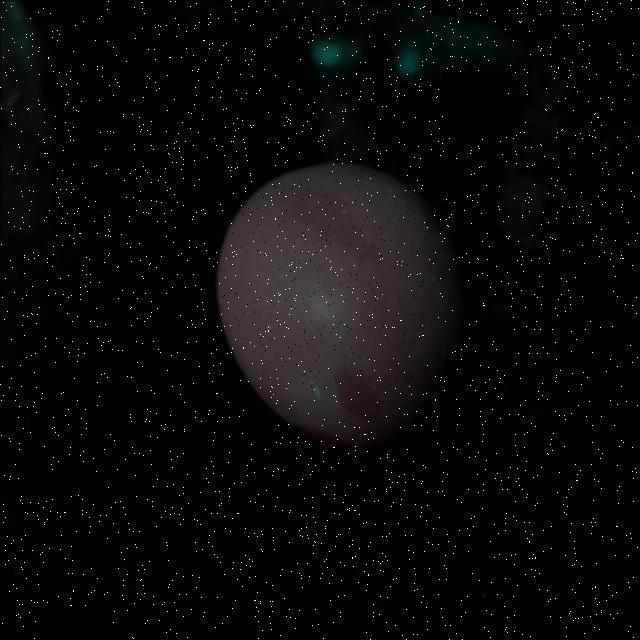egg: (212, 153, 484, 461)
